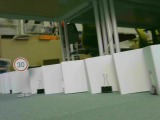speed_30: (12, 56, 30, 72)
